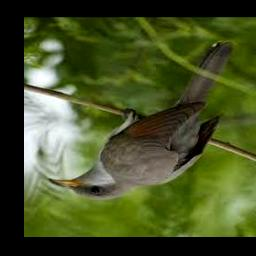Cuckoo: (49, 43, 234, 200)
